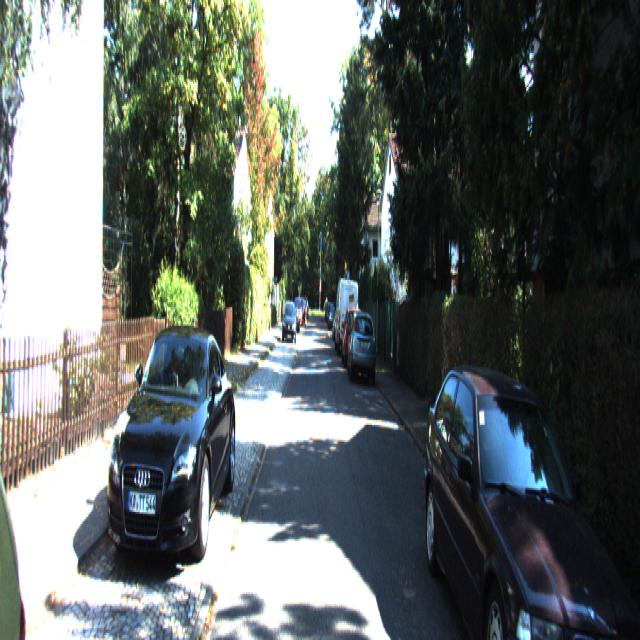Car: (419, 358, 639, 638), (102, 325, 237, 591), (347, 311, 376, 390), (336, 279, 360, 361), (342, 305, 366, 371), (283, 301, 296, 346)
